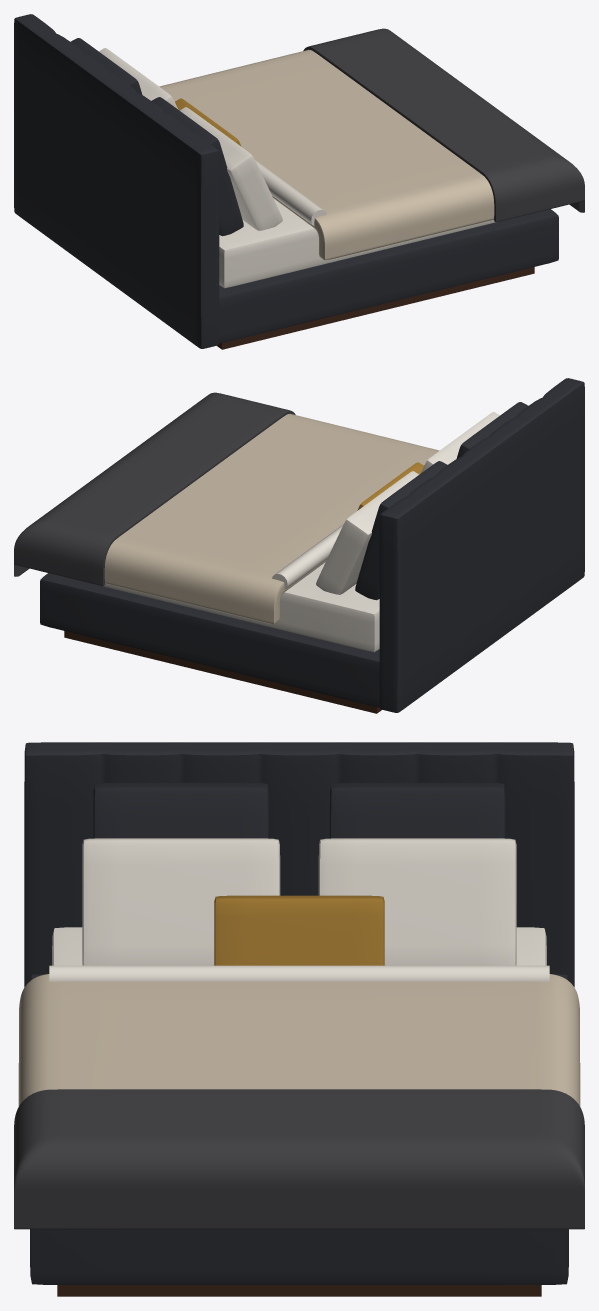
Rendered from bed_modern.glb.
The picture shows the model from 3 angles, top to bottom: view 1: azimuth 30°, elevation 25°; view 2: azimuth 150°, elevation 25°; view 3: azimuth 270°, elevation 25°; orthographic projection. The views are drawn at different scales.
Visible parts, largest first — view 1: Headboard_LOD0, Duvet_LOD0, Base_LOD0, Throw_LOD0, Mattress_LOD0, Pillow_LOD0, Plinth_LOD0, Sham_LOD0, Fold_LOD0, Pillow_LOD0.001, Sham_LOD0.001; view 2: Headboard_LOD0, Duvet_LOD0, Base_LOD0, Throw_LOD0, Mattress_LOD0, Pillow_LOD0.001, Plinth_LOD0, Sham_LOD0.001, Fold_LOD0, Pillow_LOD0, Sham_LOD0; view 3: Throw_LOD0, Duvet_LOD0, Headboard_LOD0, Base_LOD0, Pillow_LOD0, Pillow_LOD0.001, Lumbar_LOD0, Sham_LOD0, Sham_LOD0.001, Fold_LOD0, Plinth_LOD0, Mattress_LOD0.
Part boxes in pixels (left/top/right/bottom): Headboard_LOD0: left=14, top=14, right=219, bottom=348; Duvet_LOD0: left=159, top=49, right=494, bottom=260; Base_LOD0: left=219, top=209, right=558, bottom=343; Throw_LOD0: left=303, top=28, right=584, bottom=222; Mattress_LOD0: left=219, top=198, right=495, bottom=288; Pillow_LOD0: left=180, top=107, right=282, bottom=230; Plinth_LOD0: left=217, top=267, right=534, bottom=349; Sham_LOD0: left=151, top=97, right=243, bottom=236; Fold_LOD0: left=174, top=101, right=326, bottom=226; Pillow_LOD0.001: left=99, top=48, right=178, bottom=109; Sham_LOD0.001: left=70, top=38, right=142, bottom=94; Headboard_LOD0: left=379, top=378, right=584, bottom=712; Duvet_LOD0: left=104, top=413, right=439, bottom=624; Base_LOD0: left=40, top=573, right=379, bottom=707; Throw_LOD0: left=14, top=392, right=295, bottom=586; Mattress_LOD0: left=103, top=562, right=379, bottom=652; Pillow_LOD0.001: left=316, top=471, right=418, bottom=594; Plinth_LOD0: left=64, top=631, right=381, bottom=713; Sham_LOD0.001: left=355, top=461, right=447, bottom=600; Fold_LOD0: left=272, top=465, right=424, bottom=590; Pillow_LOD0: left=420, top=412, right=499, bottom=473; Sham_LOD0: left=456, top=402, right=528, bottom=458; Throw_LOD0: left=14, top=1089, right=584, bottom=1229; Duvet_LOD0: left=18, top=974, right=580, bottom=1106; Headboard_LOD0: left=24, top=742, right=574, bottom=986; Base_LOD0: left=30, top=974, right=568, bottom=1284; Pillow_LOD0: left=82, top=838, right=280, bottom=965; Pillow_LOD0.001: left=318, top=838, right=516, bottom=965; Lumbar_LOD0: left=214, top=895, right=384, bottom=965; Sham_LOD0: left=93, top=782, right=269, bottom=838; Sham_LOD0.001: left=329, top=782, right=505, bottom=838; Fold_LOD0: left=49, top=965, right=549, bottom=981; Plinth_LOD0: left=57, top=1285, right=541, bottom=1296; Mattress_LOD0: left=52, top=927, right=546, bottom=965.
Size of the model in its own units: 2.34 by 1.24 by 2.08.
